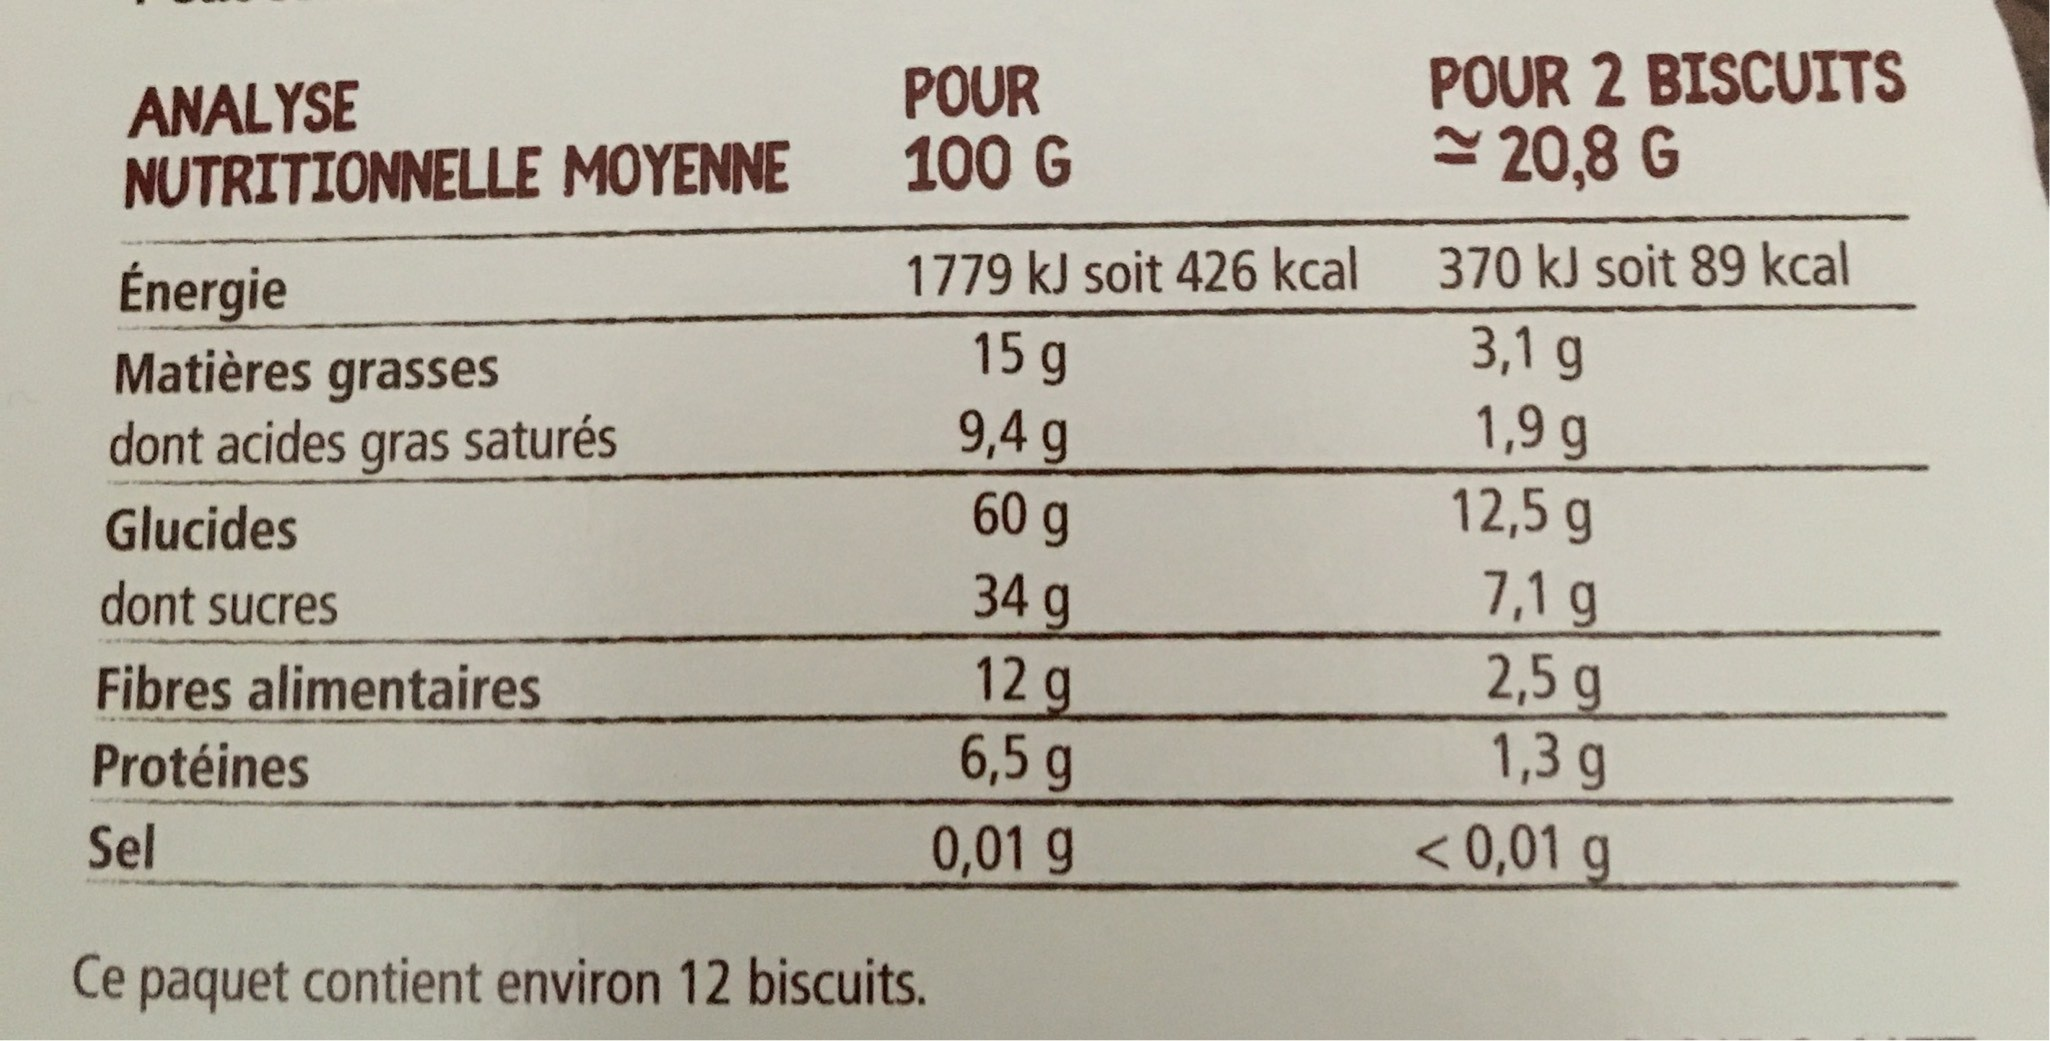column: (90, 78, 786, 871), (1419, 56, 1907, 876), (906, 52, 1360, 872)
table: (74, 41, 1953, 886)
